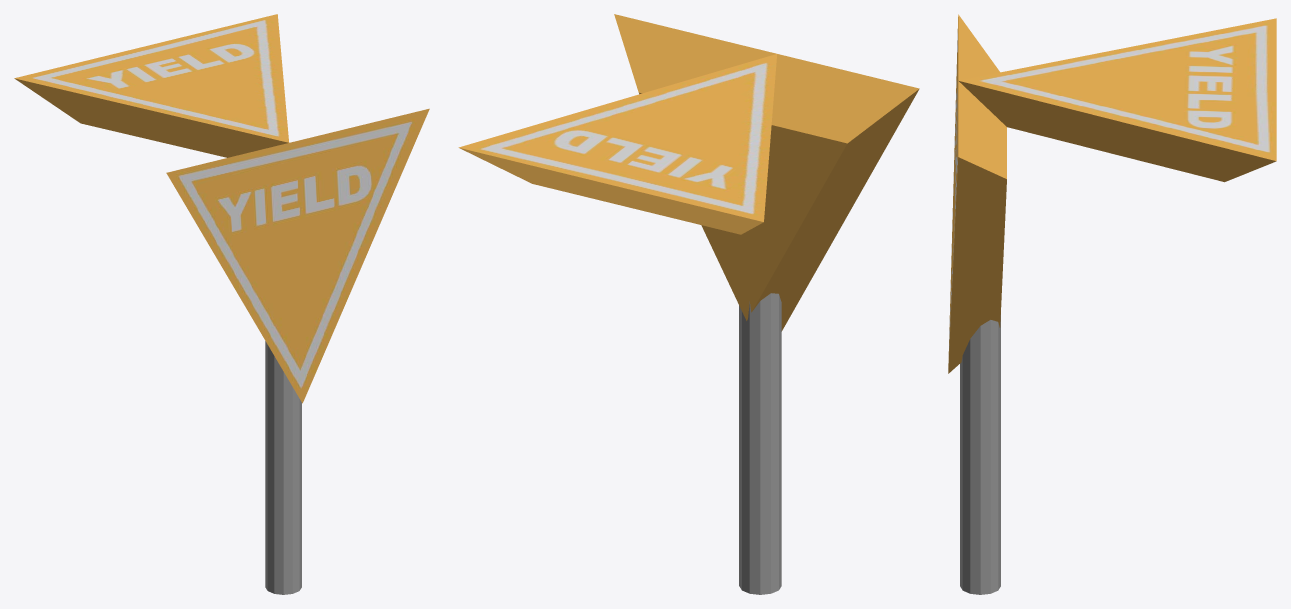
File: yieldSign_v3.fbx
3 views of the same model, side by side, from view 1: azimuth 30°, elevation 25°; view 2: azimuth 150°, elevation 25°; view 3: azimuth 270°, elevation 25° (orthographic). The views are drawn at different scales.
Parts seen in each view (by area): view 1: yield_cube_01, yield_pole_01; view 2: yield_cube_01, yield_pole_01; view 3: yield_cube_01, yield_pole_01.
Part boxes in pixels (x1,y1,x2,y2): yield_cube_01: (14, 14, 429, 403); yield_pole_01: (265, 341, 301, 594); yield_cube_01: (458, 14, 919, 331); yield_pole_01: (739, 293, 781, 594); yield_cube_01: (948, 14, 1276, 373); yield_pole_01: (960, 315, 1000, 594).
Bounding box in the file's own units: 12.05 × 19.12 × 11.32.
